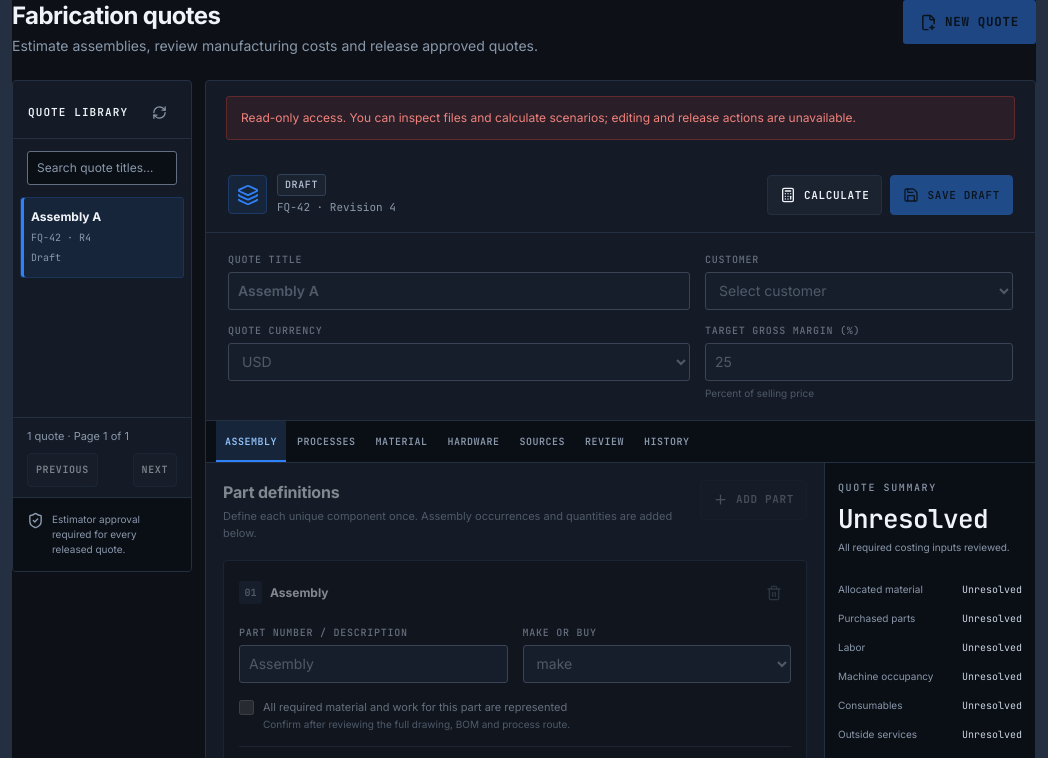
Test case: effective read-only capability disables creation, edits, save and approval
This screenshot has width=1048, height=758.
Expected: the text "Read-only access" is shown, [241,110,856,125]
Expected: the button "New quote" is disabled, [903,0,1036,44]
What coordinates should you click on to do the following:
click the button "Review"
I would click on:
 (604, 441)
Its box is [576,420,633,462].
(page scrolled)
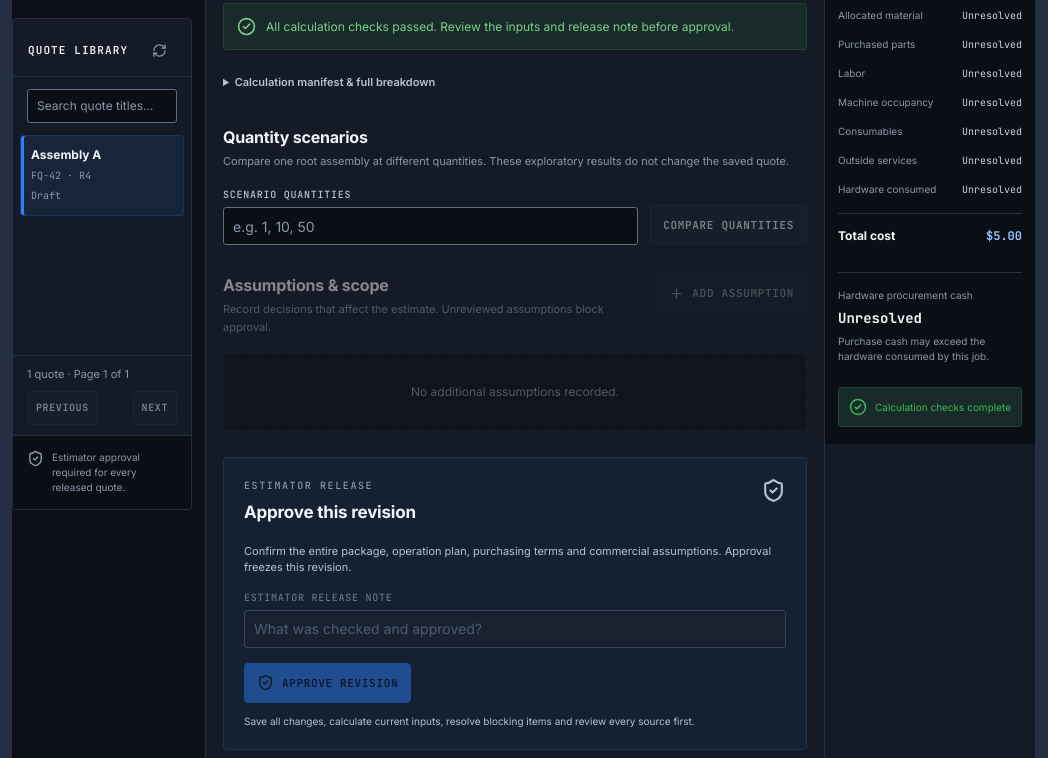
Expected: the button "Approve revision" is disabled, [244,663,411,703]
Result: the field labelled "Estimator release note" is disabled at [244,610,786,648]
